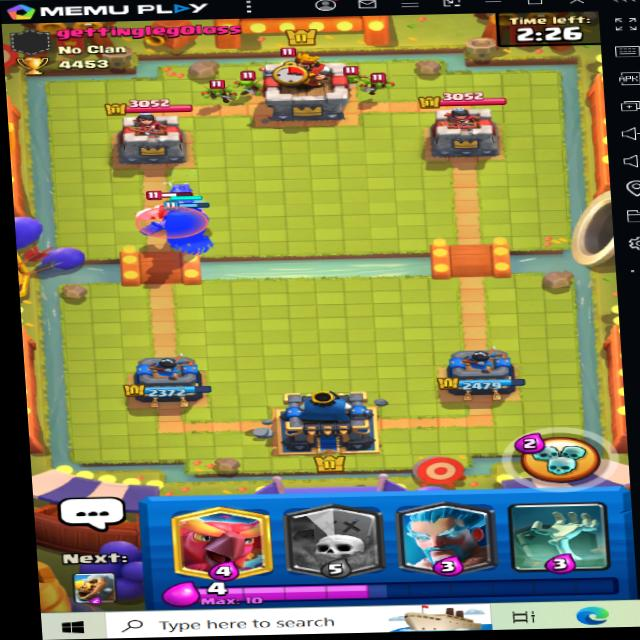Goblin: (229, 68, 268, 99), (203, 81, 235, 109), (370, 71, 400, 96), (345, 67, 369, 88)
Icegolem: (139, 181, 209, 227)
